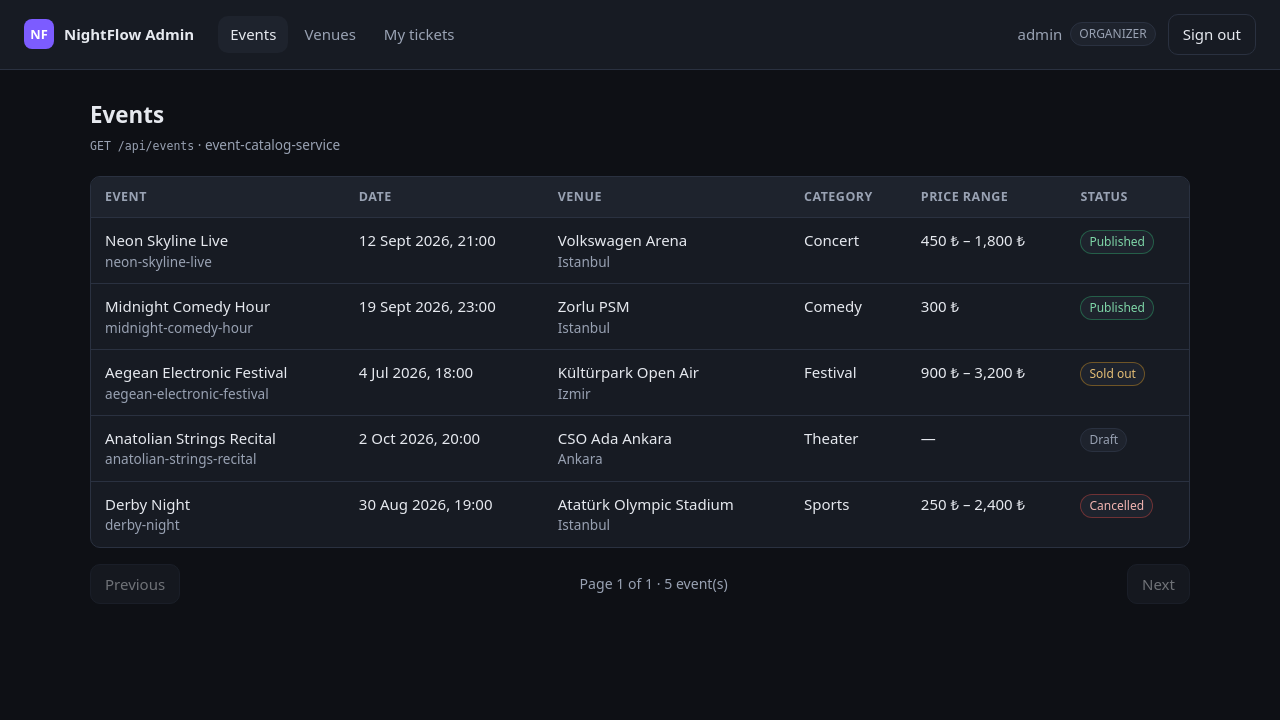
Test: protected routing › returns to the login screen after signing out
Click the button "Sign out": (1212, 34) [1168,14,1256,54]
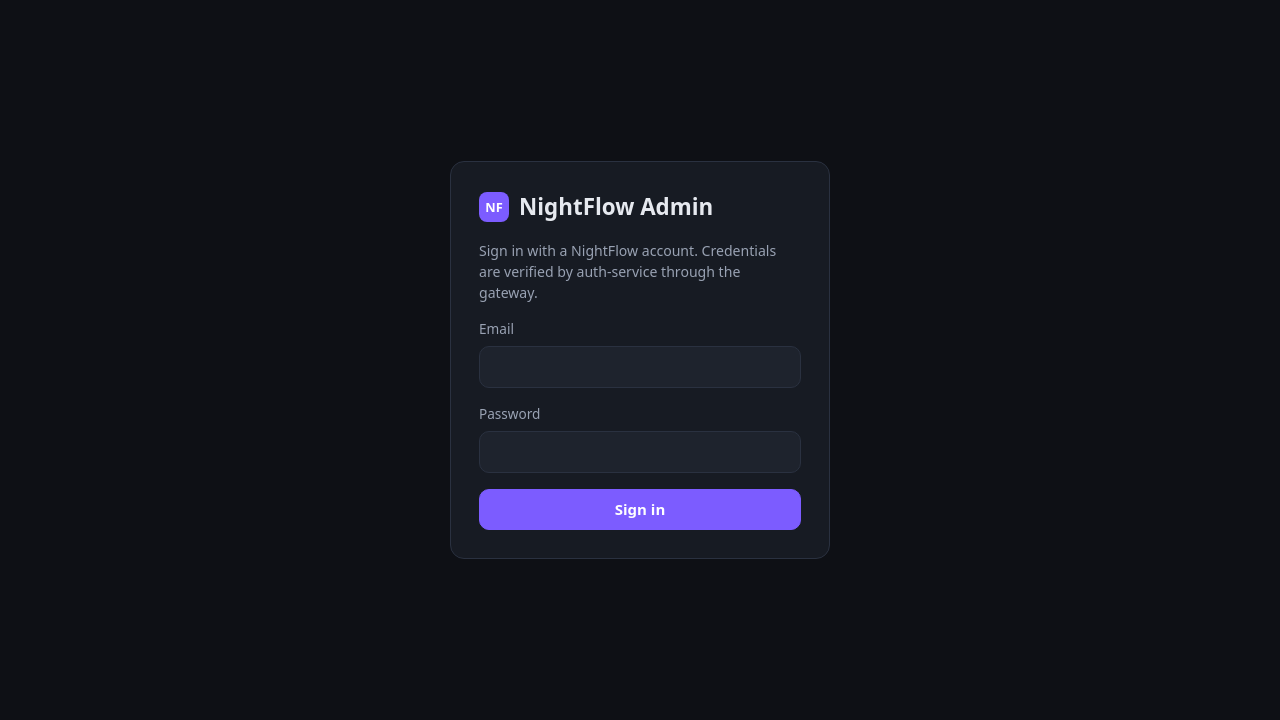
Expected: the button "Sign in" is shown, [479,489,801,530]
Expected: the table is gone
